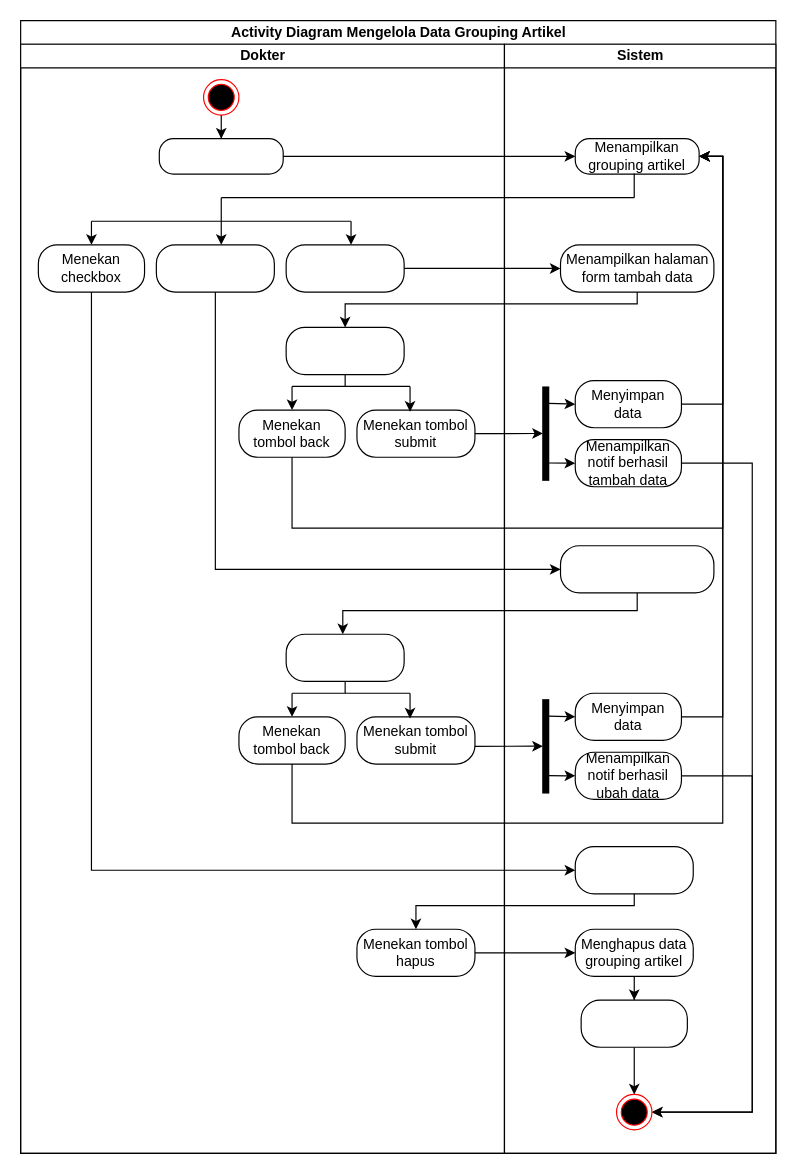
Some shapes in this 796 by 1174 pixel diagram are drawn without their labels. The shapes that lost their labels are listed below. From the top down, each one's centre as x and y in pixels, then its label:
[220,155]: Memilih menu grouping artikel
[214,268]: Menekan tombol edit data
[344,268]: Menekan tombol tambah data
[344,350]: Melengkapi form tambah data
[636,569]: Menampilkan halaman form edit data
[344,657]: Melengkapi form edit data
[633,869]: Menampilkan tombol hapus
[633,1023]: Menampilkan notif berhasil hapus data
